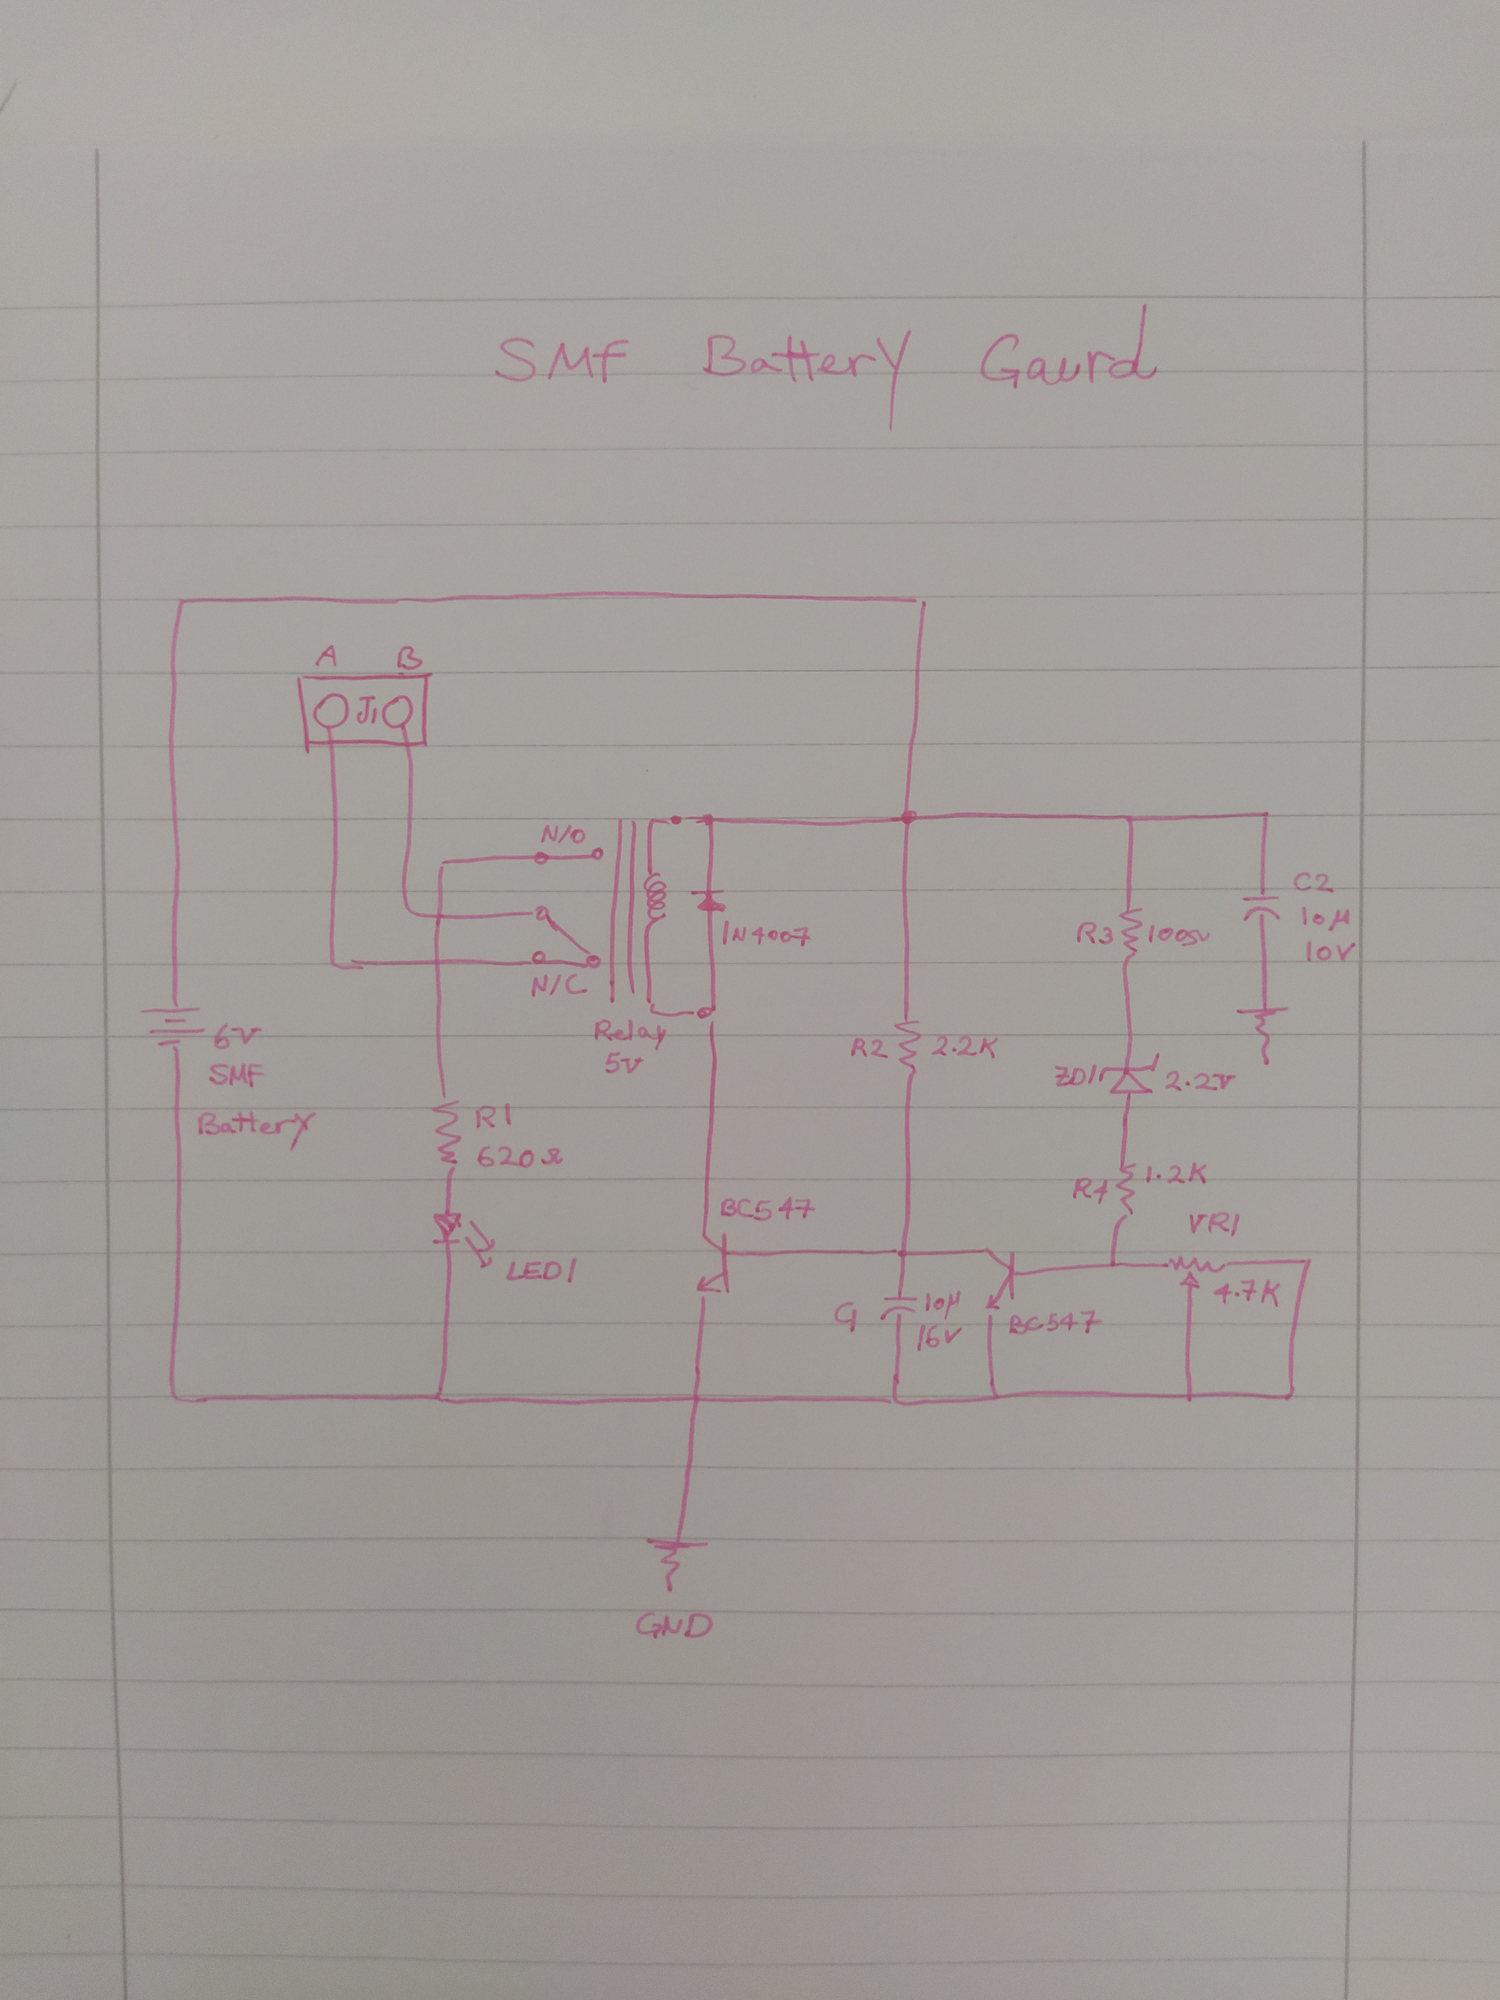capacitor.unpolarized: (1240, 891, 1283, 923), (878, 1294, 920, 1323)
crossover: (425, 906, 451, 924), (427, 953, 447, 972)
diode: (1097, 1050, 1161, 1096), (689, 887, 730, 913)
diode.light_emitting: (429, 1209, 498, 1271)
gnd: (641, 1531, 703, 1591), (1234, 1005, 1290, 1068)
junction: (162, 1384, 187, 1406), (321, 953, 348, 973), (911, 591, 933, 613), (695, 1000, 717, 1020), (399, 901, 421, 921), (430, 1386, 451, 1406), (898, 808, 919, 828), (170, 592, 191, 613), (685, 1389, 706, 1408), (1298, 1252, 1317, 1272), (700, 811, 718, 830), (1182, 1386, 1199, 1405), (1279, 1386, 1297, 1405), (433, 855, 452, 872), (887, 1391, 904, 1408), (1105, 1254, 1120, 1272), (1122, 811, 1139, 827), (986, 1387, 1004, 1403), (893, 1244, 911, 1260), (1257, 806, 1275, 820)
relay: (522, 811, 690, 1022)
resistor: (429, 1093, 465, 1172), (890, 1019, 923, 1076), (1109, 1164, 1139, 1220), (1116, 909, 1145, 961)
resistor.adjustable: (1161, 1254, 1231, 1294)
terminal: (310, 691, 351, 731), (381, 691, 414, 731)
text: (474, 313, 1209, 424), (197, 1106, 317, 1153), (715, 1191, 816, 1225), (474, 1139, 566, 1172), (1005, 1309, 1100, 1340), (630, 1608, 715, 1643), (495, 1254, 581, 1287), (717, 920, 811, 950), (1205, 1276, 1284, 1309), (592, 1017, 670, 1050), (930, 1031, 997, 1061), (1161, 1068, 1237, 1094), (205, 1057, 265, 1090), (526, 970, 591, 1000), (1183, 1206, 1242, 1239), (1301, 934, 1360, 965), (1144, 1161, 1213, 1186), (1298, 904, 1355, 934), (206, 1020, 260, 1052), (1147, 924, 1209, 948), (599, 1047, 648, 1076), (471, 1099, 514, 1131), (1290, 868, 1339, 894), (917, 1321, 963, 1350), (1053, 1061, 1098, 1090), (1071, 1173, 1109, 1206), (539, 822, 588, 847), (848, 1035, 893, 1061), (923, 1290, 961, 1320), (1075, 918, 1112, 948), (832, 1299, 860, 1334), (394, 644, 427, 669), (355, 694, 380, 728), (315, 643, 340, 669)
transistor: (693, 1228, 741, 1298), (982, 1246, 1019, 1318)
voltage.dc: (139, 1002, 206, 1050)
